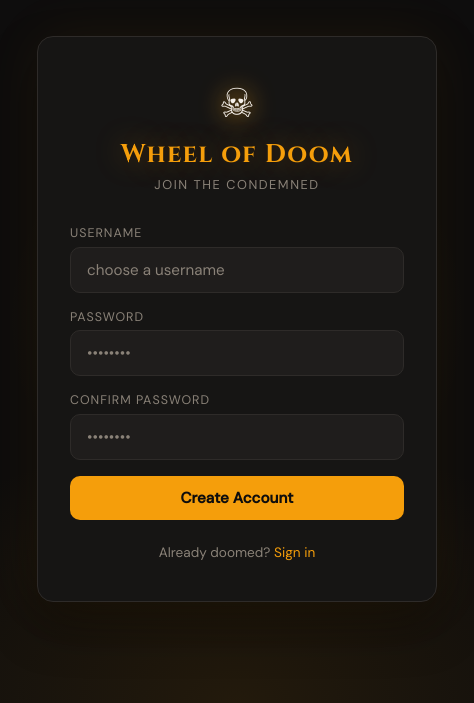
Test: RegisterPage › shows an error when the password is too short
Type "alice" into the field with placeholder "choose a username".
click(237, 270); type("alice")  # box [70,247,404,293]
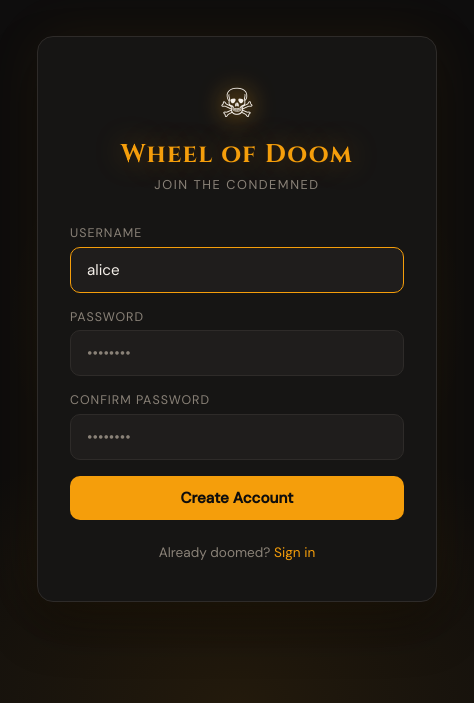
Type "12345" into the 1st password field with placeholder "••••••••".
click(237, 353); type("12345")  # box [70,330,404,376]
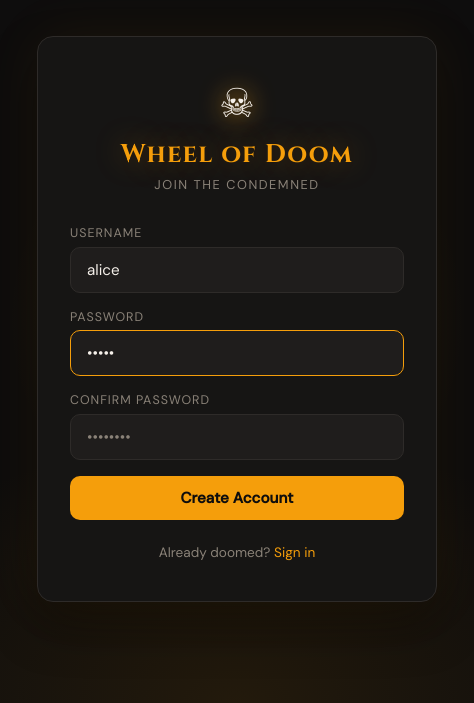
Type "12345" into the password field with placeholder "••••••••".
click(237, 437); type("12345")  # box [70,414,404,460]
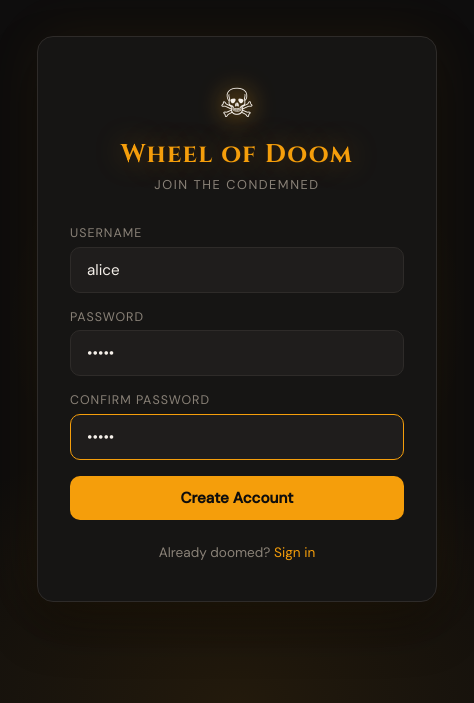
Click the button "Create Account".
click(237, 498)  # box [70,476,404,520]
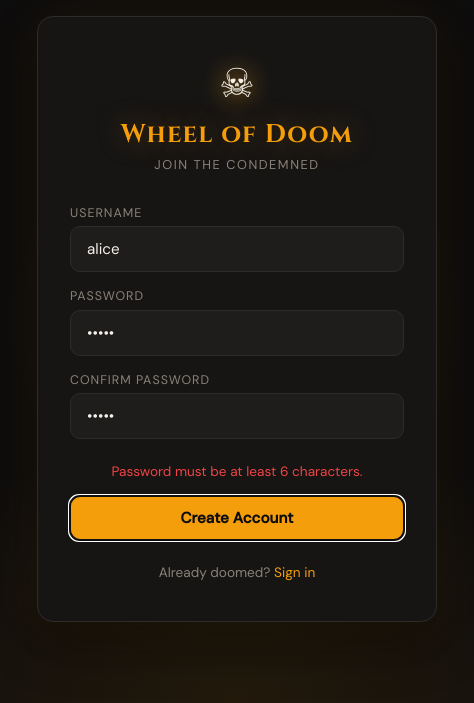
Expected: the text "Password must be at least 6 characters." is shown, [112,463,362,480]
